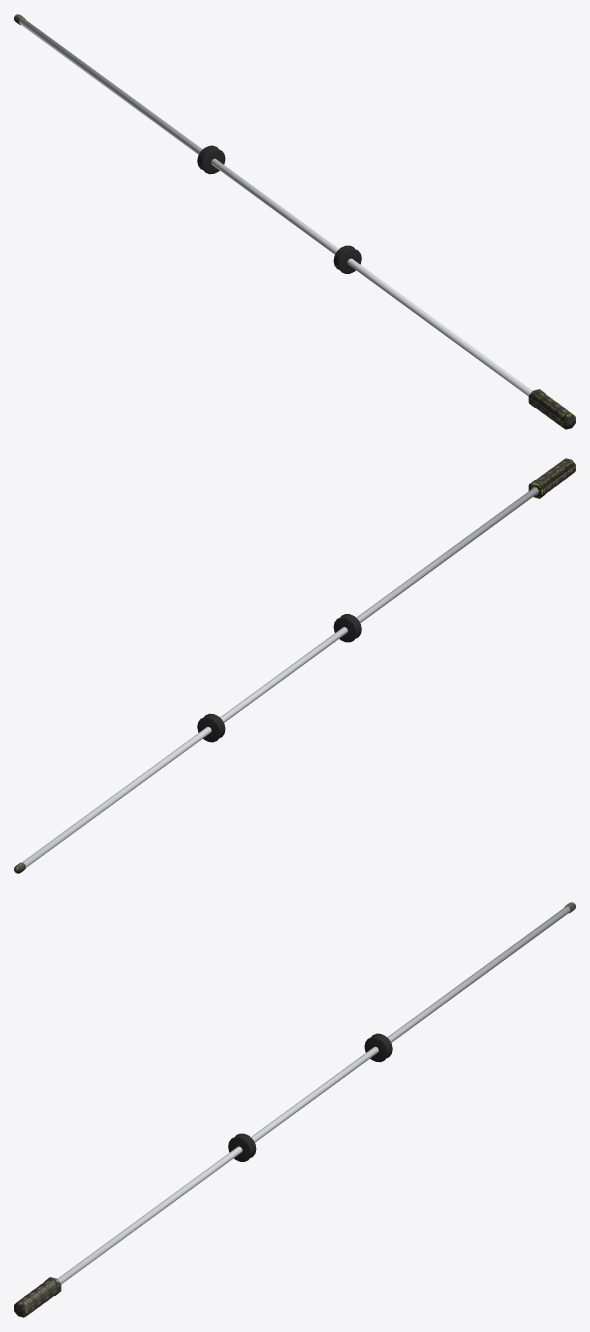
File: fuzeball_rod_1man.glb
The picture shows the model from 3 angles, top to bottom: view 1: azimuth 30°, elevation 25°; view 2: azimuth 150°, elevation 25°; view 3: azimuth 330°, elevation 25°; orthographic projection.
Visible parts, largest first — view 1: rod1_bar.003, rod1_handle.alien, CylinderR_rod1.001, CylinderL._rod1.001; view 2: rod1_bar.003, rod1_handle.alien, CylinderR_rod1.001, CylinderL._rod1.001; view 3: rod1_bar.003, rod1_handle.alien, CylinderR_rod1.001, CylinderL._rod1.001.
Part boxes in pixels (left/top/right/bottom): rod1_bar.003: left=19, top=18, right=532, bottom=396; rod1_handle.alien: left=528, top=389, right=575, bottom=429; CylinderR_rod1.001: left=197, top=145, right=225, bottom=174; CylinderL._rod1.001: left=333, top=245, right=361, bottom=273; rod1_bar.003: left=22, top=487, right=538, bottom=867; rod1_handle.alien: left=528, top=458, right=575, bottom=498; CylinderR_rod1.001: left=197, top=713, right=225, bottom=742; CylinderL._rod1.001: left=333, top=614, right=361, bottom=642; rod1_bar.003: left=57, top=906, right=570, bottom=1284; rod1_handle.alien: left=14, top=1277, right=61, bottom=1317; CylinderR_rod1.001: left=364, top=1033, right=392, bottom=1062; CylinderL._rod1.001: left=228, top=1133, right=256, bottom=1161.
Bounding box in the file's own units: 3.02 × 3.02 × 122.
Materials: 3 (1 with a texture image).
